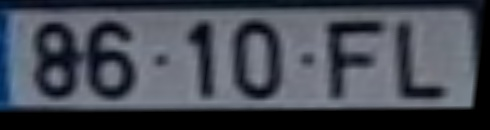0: (231, 17, 290, 105)
1: (181, 17, 223, 104)
6: (85, 17, 141, 105)
8: (29, 20, 80, 104)
F: (321, 20, 393, 106)
L: (393, 20, 453, 103)
